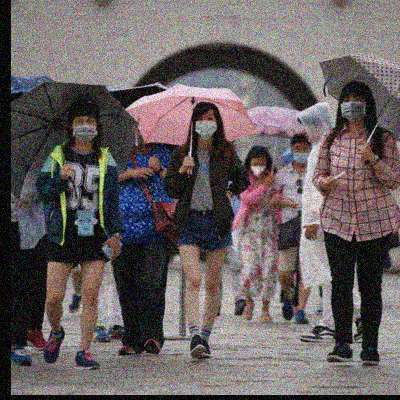with_mask: (70, 116, 97, 143), (340, 95, 366, 123), (193, 112, 218, 141), (292, 144, 310, 164), (249, 160, 266, 178)
